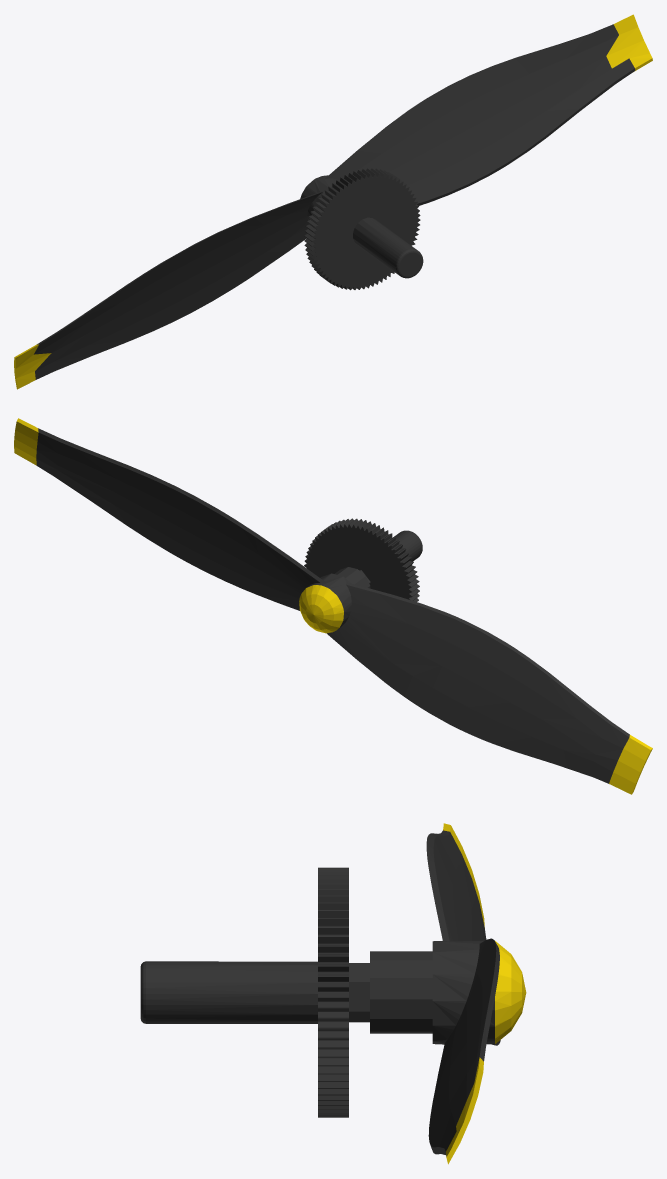
Rendered from wing_link1.dae.
3 views of the same model, one above another, from view 1: azimuth 30°, elevation 25°; view 2: azimuth 150°, elevation 25°; view 3: azimuth 270°, elevation 25° (orthographic). The views are drawn at different scales.
Parts seen in each view (by area): view 1: wing_link4; view 2: wing_link4; view 3: wing_link4.
Boxes of the visible parts, x1,y1,x2,y2 form: wing_link4: (14, 14, 652, 389); wing_link4: (14, 418, 652, 794); wing_link4: (140, 823, 526, 1164).
Size of the model in its own units: 14.12 by 4.78 by 3.7.
